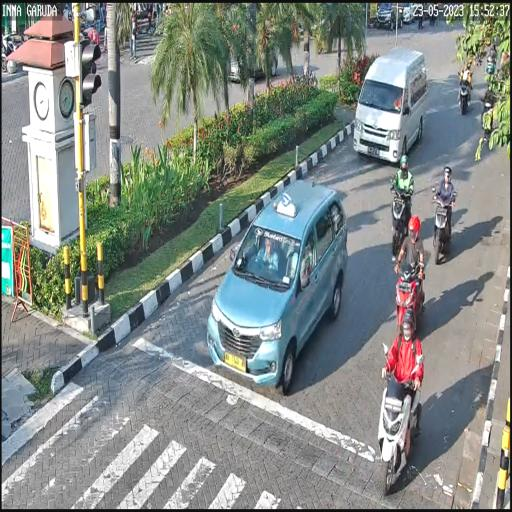mobil: (202, 168, 354, 387), (350, 50, 430, 164)
motor: (378, 341, 424, 498), (390, 251, 427, 334), (430, 181, 457, 266), (389, 176, 414, 254)
